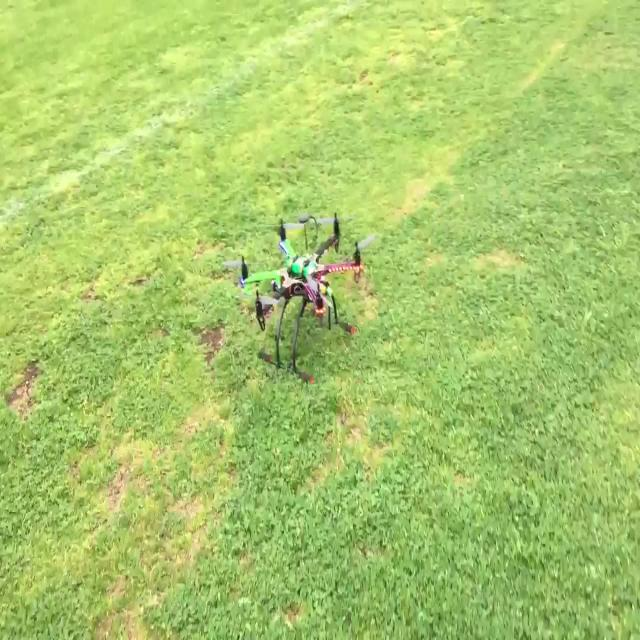drone: (223, 182, 386, 387)
